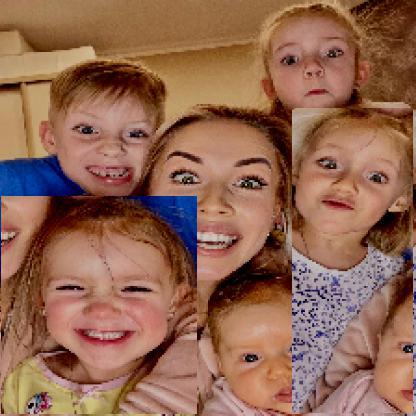child: (2, 197, 199, 416), (293, 109, 415, 415), (1, 57, 165, 251), (200, 267, 397, 416), (259, 4, 372, 110)
